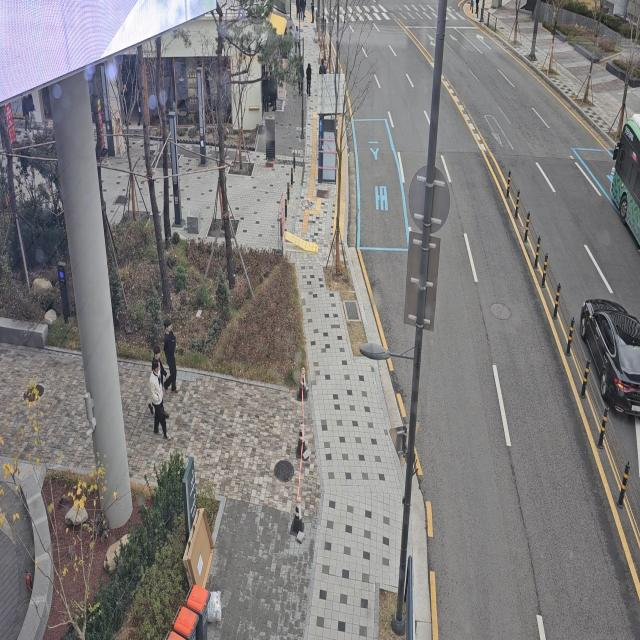Bus: (606, 85, 640, 272)
Car: (573, 291, 640, 424)
